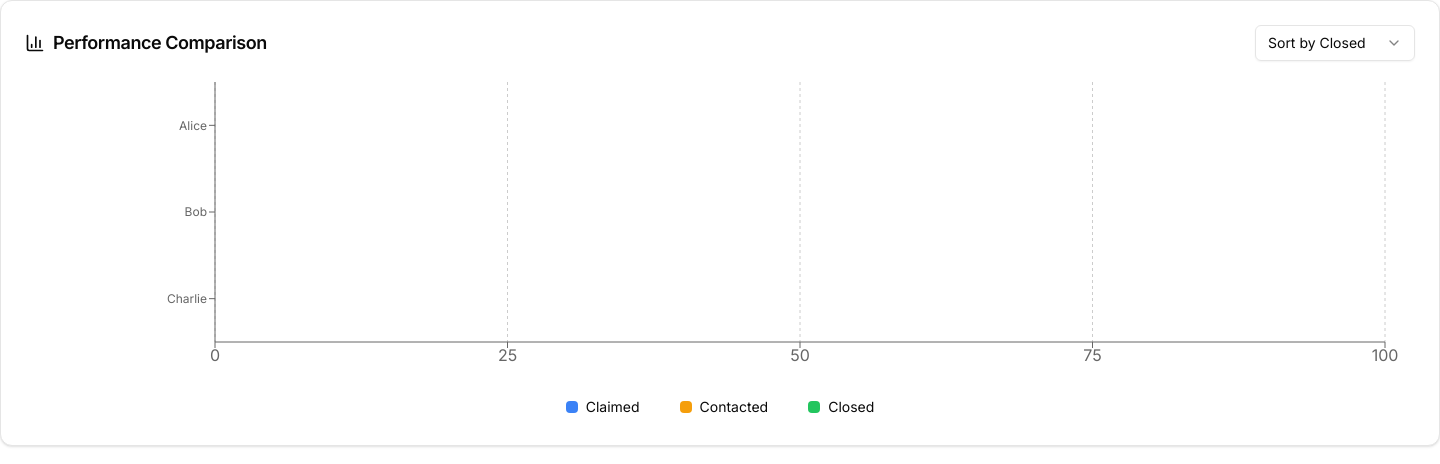
Test case: PerformanceBarChart › AC#6: Sorting Dropdown › has all sorting options
Note: Click to open dropdown
Click the dropdown at (1335, 43), box left=1255, top=25, right=1415, bottom=61
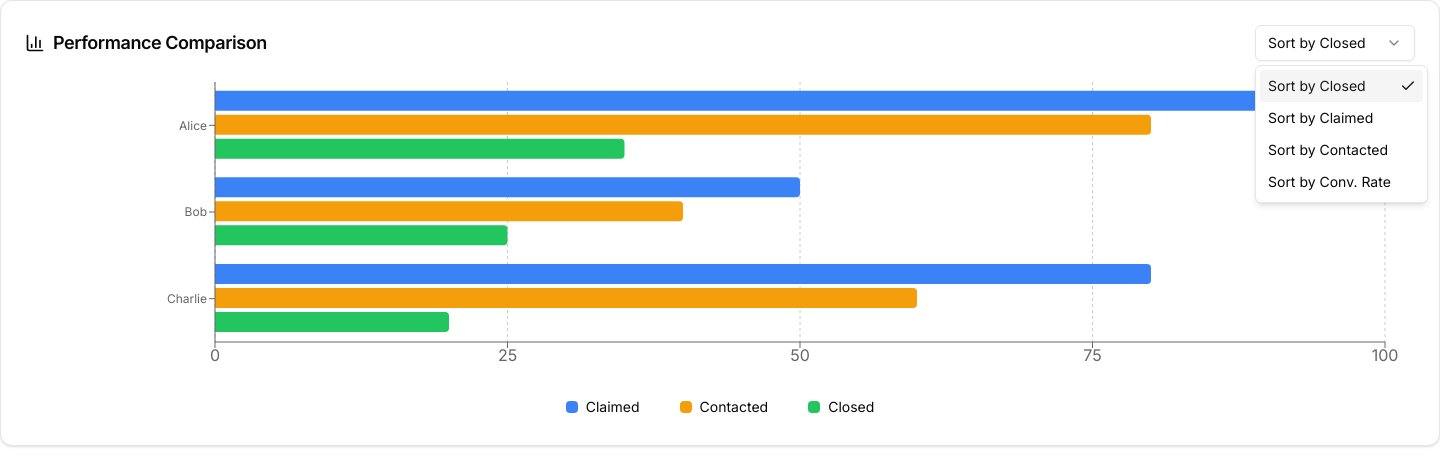
Check: the text "Sort by Claimed" is shown, box left=1268, top=108, right=1373, bottom=128
Check: the text "Sort by Contacted" is shown, box left=1268, top=140, right=1388, bottom=160
Check: the text "Sort by Conv. Rate" is shown, box left=1268, top=172, right=1391, bottom=192
